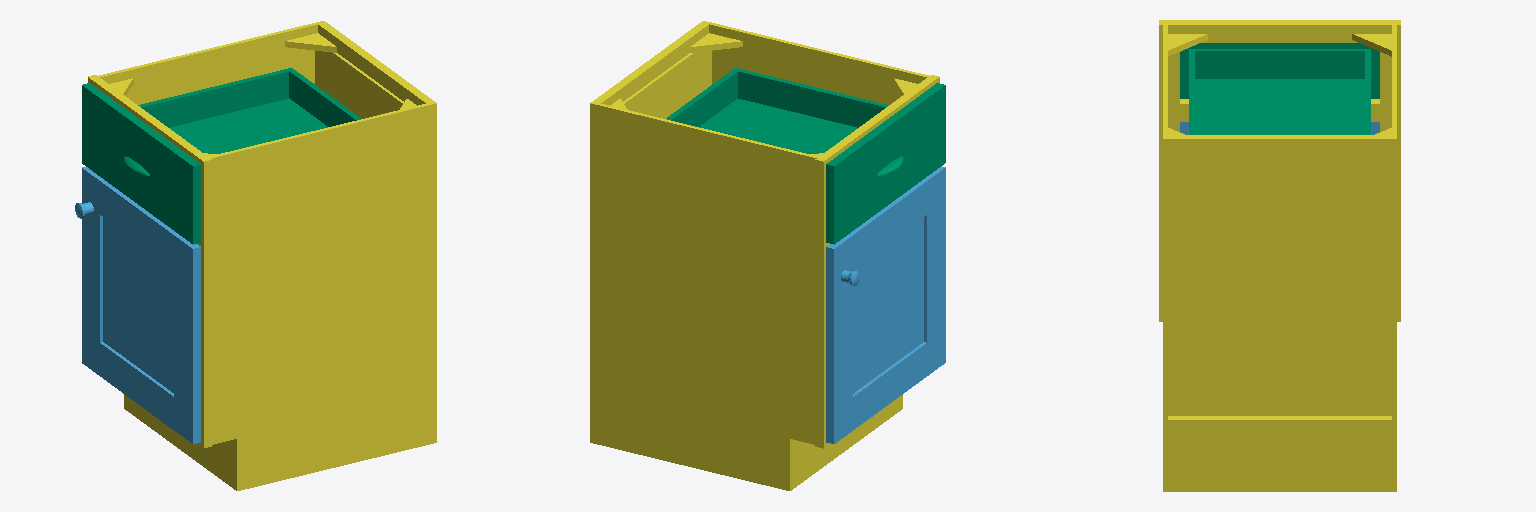
URDF robot description (partnet_31c94abeda52273286d53ab0fe94e911):
<?xml version="1.0" ?>
<robot name="partnet_31c94abeda52273286d53ab0fe94e911">
	<link name="base"/>
	<link name="link_0">
		<visual name="cabinet_door_surface-16">
			<origin xyz="-0.46504091367065414 -0.7074369788169861 -0.5566501791702767"/>
			<geometry>
				<mesh filename="textured_objs/original-39.obj"/>
			</geometry>
		</visual>
		<visual name="cabinet_door_surface-16">
			<origin xyz="-0.46504091367065414 -0.7074369788169861 -0.5566501791702767"/>
			<geometry>
				<mesh filename="textured_objs/original-41.obj"/>
			</geometry>
		</visual>
		<visual name="cabinet_door_surface-16">
			<origin xyz="-0.46504091367065414 -0.7074369788169861 -0.5566501791702767"/>
			<geometry>
				<mesh filename="textured_objs/original-42.obj"/>
			</geometry>
		</visual>
		<visual name="cabinet_door_surface-16">
			<origin xyz="-0.46504091367065414 -0.7074369788169861 -0.5566501791702767"/>
			<geometry>
				<mesh filename="textured_objs/original-40.obj"/>
			</geometry>
		</visual>
		<visual name="cabinet_door_surface-16">
			<origin xyz="-0.46504091367065414 -0.7074369788169861 -0.5566501791702767"/>
			<geometry>
				<mesh filename="textured_objs/original-38.obj"/>
			</geometry>
		</visual>
		<visual name="handle-17">
			<origin xyz="-0.46504091367065414 -0.7074369788169861 -0.5566501791702767"/>
			<geometry>
				<mesh filename="textured_objs/original-43.obj"/>
			</geometry>
		</visual>
		<collision>
			<origin xyz="-0.46504091367065414 -0.7074369788169861 -0.5566501791702767"/>
			<geometry>
				<mesh filename="textured_objs/original-39.obj"/>
			</geometry>
		</collision>
		<collision>
			<origin xyz="-0.46504091367065414 -0.7074369788169861 -0.5566501791702767"/>
			<geometry>
				<mesh filename="textured_objs/original-41.obj"/>
			</geometry>
		</collision>
		<collision>
			<origin xyz="-0.46504091367065414 -0.7074369788169861 -0.5566501791702767"/>
			<geometry>
				<mesh filename="textured_objs/original-42.obj"/>
			</geometry>
		</collision>
		<collision>
			<origin xyz="-0.46504091367065414 -0.7074369788169861 -0.5566501791702767"/>
			<geometry>
				<mesh filename="textured_objs/original-40.obj"/>
			</geometry>
		</collision>
		<collision>
			<origin xyz="-0.46504091367065414 -0.7074369788169861 -0.5566501791702767"/>
			<geometry>
				<mesh filename="textured_objs/original-38.obj"/>
			</geometry>
		</collision>
		<collision>
			<origin xyz="-0.46504091367065414 -0.7074369788169861 -0.5566501791702767"/>
			<geometry>
				<mesh filename="textured_objs/original-43.obj"/>
			</geometry>
		</collision>
	</link>
	<joint name="joint_0" type="revolute">
		<origin xyz="0.46504091367065414 0.7074369788169861 0.5566501791702767"/>
		<axis xyz="0 0.9999999999999999 0"/>
		<child link="link_0"/>
		<parent link="link_2"/>
		<limit lower="0.0" upper="1.7215927741672068"/>
	</joint>
	<link name="link_1">
		<visual name="drawer_side-9">
			<origin xyz="-0.038757788652000566 -0.5077704876318465 0.5317010283470152"/>
			<geometry>
				<mesh filename="textured_objs/original-26.obj"/>
			</geometry>
		</visual>
		<visual name="drawer_side-10">
			<origin xyz="-0.038757788652000566 -0.5077704876318465 0.5317010283470152"/>
			<geometry>
				<mesh filename="textured_objs/original-31.obj"/>
			</geometry>
		</visual>
		<visual name="drawer_back-11">
			<origin xyz="-0.038757788652000566 -0.5077704876318465 0.5317010283470152"/>
			<geometry>
				<mesh filename="textured_objs/original-32.obj"/>
			</geometry>
		</visual>
		<visual name="drawer_bottom-12">
			<origin xyz="-0.038757788652000566 -0.5077704876318465 0.5317010283470152"/>
			<geometry>
				<mesh filename="textured_objs/original-30.obj"/>
			</geometry>
		</visual>
		<visual name="drawer_bottom-12">
			<origin xyz="-0.038757788652000566 -0.5077704876318465 0.5317010283470152"/>
			<geometry>
				<mesh filename="textured_objs/original-29.obj"/>
			</geometry>
		</visual>
		<visual name="drawer_front-13">
			<origin xyz="-0.038757788652000566 -0.5077704876318465 0.5317010283470152"/>
			<geometry>
				<mesh filename="textured_objs/original-35.obj"/>
			</geometry>
		</visual>
		<visual name="drawer_front-13">
			<origin xyz="-0.038757788652000566 -0.5077704876318465 0.5317010283470152"/>
			<geometry>
				<mesh filename="textured_objs/original-27.obj"/>
			</geometry>
		</visual>
		<visual name="other_leaf-15">
			<origin xyz="-0.038757788652000566 -0.5077704876318465 0.5317010283470152"/>
			<geometry>
				<mesh filename="textured_objs/original-33.obj"/>
			</geometry>
		</visual>
		<visual name="handle-7">
			<origin xyz="-0.038757788652000566 -0.5077704876318465 0.5317010283470152"/>
			<geometry>
				<mesh filename="textured_objs/original-36.obj"/>
			</geometry>
		</visual>
		<collision>
			<origin xyz="-0.038757788652000566 -0.5077704876318465 0.5317010283470152"/>
			<geometry>
				<mesh filename="textured_objs/original-26.obj"/>
			</geometry>
		</collision>
		<collision>
			<origin xyz="-0.038757788652000566 -0.5077704876318465 0.5317010283470152"/>
			<geometry>
				<mesh filename="textured_objs/original-31.obj"/>
			</geometry>
		</collision>
		<collision>
			<origin xyz="-0.038757788652000566 -0.5077704876318465 0.5317010283470152"/>
			<geometry>
				<mesh filename="textured_objs/original-32.obj"/>
			</geometry>
		</collision>
		<collision>
			<origin xyz="-0.038757788652000566 -0.5077704876318465 0.5317010283470152"/>
			<geometry>
				<mesh filename="textured_objs/original-30.obj"/>
			</geometry>
		</collision>
		<collision>
			<origin xyz="-0.038757788652000566 -0.5077704876318465 0.5317010283470152"/>
			<geometry>
				<mesh filename="textured_objs/original-29.obj"/>
			</geometry>
		</collision>
		<collision>
			<origin xyz="-0.038757788652000566 -0.5077704876318465 0.5317010283470152"/>
			<geometry>
				<mesh filename="textured_objs/original-35.obj"/>
			</geometry>
		</collision>
		<collision>
			<origin xyz="-0.038757788652000566 -0.5077704876318465 0.5317010283470152"/>
			<geometry>
				<mesh filename="textured_objs/original-27.obj"/>
			</geometry>
		</collision>
		<collision>
			<origin xyz="-0.038757788652000566 -0.5077704876318465 0.5317010283470152"/>
			<geometry>
				<mesh filename="textured_objs/original-33.obj"/>
			</geometry>
		</collision>
		<collision>
			<origin xyz="-0.038757788652000566 -0.5077704876318465 0.5317010283470152"/>
			<geometry>
				<mesh filename="textured_objs/original-36.obj"/>
			</geometry>
		</collision>
	</link>
	<joint name="joint_1" type="prismatic">
		<origin xyz="0.038757788652000566 0.5077704876318465 -0.5317010283470152"/>
		<axis xyz="0 0 1"/>
		<child link="link_1"/>
		<parent link="link_2"/>
		<limit lower="0" upper="0.7959999999999998"/>
	</joint>
	<link name="link_2">
		<visual name="frame_vertical_bar-28">
			<origin xyz="0 0 0"/>
			<geometry>
				<mesh filename="textured_objs/original-3.obj"/>
			</geometry>
		</visual>
		<visual name="frame_vertical_bar-29">
			<origin xyz="0 0 0"/>
			<geometry>
				<mesh filename="textured_objs/original-7.obj"/>
			</geometry>
		</visual>
		<visual name="frame_horizontal_bar-30">
			<origin xyz="0 0 0"/>
			<geometry>
				<mesh filename="textured_objs/original-8.obj"/>
			</geometry>
		</visual>
		<visual name="frame_horizontal_bar-31">
			<origin xyz="0 0 0"/>
			<geometry>
				<mesh filename="textured_objs/original-17.obj"/>
			</geometry>
		</visual>
		<visual name="frame_horizontal_bar-32">
			<origin xyz="0 0 0"/>
			<geometry>
				<mesh filename="textured_objs/original-6.obj"/>
			</geometry>
		</visual>
		<visual name="other_leaf-34">
			<origin xyz="0 0 0"/>
			<geometry>
				<mesh filename="textured_objs/original-21.obj"/>
			</geometry>
		</visual>
		<visual name="other_leaf-35">
			<origin xyz="0 0 0"/>
			<geometry>
				<mesh filename="textured_objs/original-22.obj"/>
			</geometry>
		</visual>
		<visual name="other_leaf-36">
			<origin xyz="0 0 0"/>
			<geometry>
				<mesh filename="textured_objs/original-23.obj"/>
			</geometry>
		</visual>
		<visual name="other_leaf-37">
			<origin xyz="0 0 0"/>
			<geometry>
				<mesh filename="textured_objs/original-20.obj"/>
			</geometry>
		</visual>
		<visual name="vertical_side_panel-38">
			<origin xyz="0 0 0"/>
			<geometry>
				<mesh filename="textured_objs/original-11.obj"/>
			</geometry>
		</visual>
		<visual name="vertical_side_panel-38">
			<origin xyz="0 0 0"/>
			<geometry>
				<mesh filename="textured_objs/original-10.obj"/>
			</geometry>
		</visual>
		<visual name="vertical_side_panel-39">
			<origin xyz="0 0 0"/>
			<geometry>
				<mesh filename="textured_objs/original-15.obj"/>
			</geometry>
		</visual>
		<visual name="vertical_side_panel-39">
			<origin xyz="0 0 0"/>
			<geometry>
				<mesh filename="textured_objs/original-14.obj"/>
			</geometry>
		</visual>
		<visual name="back_panel-40">
			<origin xyz="0 0 0"/>
			<geometry>
				<mesh filename="textured_objs/original-5.obj"/>
			</geometry>
		</visual>
		<visual name="bottom_panel-41">
			<origin xyz="0 0 0"/>
			<geometry>
				<mesh filename="textured_objs/original-2.obj"/>
			</geometry>
		</visual>
		<visual name="frame_horizontal_bar-42">
			<origin xyz="0 0 0"/>
			<geometry>
				<mesh filename="textured_objs/original-4.obj"/>
			</geometry>
		</visual>
		<visual name="other_leaf-44">
			<origin xyz="0 0 0"/>
			<geometry>
				<mesh filename="textured_objs/original-44.obj"/>
			</geometry>
		</visual>
		<visual name="base_side_panel-19">
			<origin xyz="0 0 0"/>
			<geometry>
				<mesh filename="textured_objs/original-16.obj"/>
			</geometry>
		</visual>
		<visual name="base_side_panel-20">
			<origin xyz="0 0 0"/>
			<geometry>
				<mesh filename="textured_objs/original-18.obj"/>
			</geometry>
		</visual>
		<visual name="base_side_panel-21">
			<origin xyz="0 0 0"/>
			<geometry>
				<mesh filename="textured_objs/original-12.obj"/>
			</geometry>
		</visual>
		<visual name="base_side_panel-22">
			<origin xyz="0 0 0"/>
			<geometry>
				<mesh filename="textured_objs/original-19.obj"/>
			</geometry>
		</visual>
		<collision>
			<origin xyz="0 0 0"/>
			<geometry>
				<mesh filename="textured_objs/original-3.obj"/>
			</geometry>
		</collision>
		<collision>
			<origin xyz="0 0 0"/>
			<geometry>
				<mesh filename="textured_objs/original-7.obj"/>
			</geometry>
		</collision>
		<collision>
			<origin xyz="0 0 0"/>
			<geometry>
				<mesh filename="textured_objs/original-8.obj"/>
			</geometry>
		</collision>
		<collision>
			<origin xyz="0 0 0"/>
			<geometry>
				<mesh filename="textured_objs/original-17.obj"/>
			</geometry>
		</collision>
		<collision>
			<origin xyz="0 0 0"/>
			<geometry>
				<mesh filename="textured_objs/original-6.obj"/>
			</geometry>
		</collision>
		<collision>
			<origin xyz="0 0 0"/>
			<geometry>
				<mesh filename="textured_objs/original-21.obj"/>
			</geometry>
		</collision>
		<collision>
			<origin xyz="0 0 0"/>
			<geometry>
				<mesh filename="textured_objs/original-22.obj"/>
			</geometry>
		</collision>
		<collision>
			<origin xyz="0 0 0"/>
			<geometry>
				<mesh filename="textured_objs/original-23.obj"/>
			</geometry>
		</collision>
		<collision>
			<origin xyz="0 0 0"/>
			<geometry>
				<mesh filename="textured_objs/original-20.obj"/>
			</geometry>
		</collision>
		<collision>
			<origin xyz="0 0 0"/>
			<geometry>
				<mesh filename="textured_objs/original-11.obj"/>
			</geometry>
		</collision>
		<collision>
			<origin xyz="0 0 0"/>
			<geometry>
				<mesh filename="textured_objs/original-10.obj"/>
			</geometry>
		</collision>
		<collision>
			<origin xyz="0 0 0"/>
			<geometry>
				<mesh filename="textured_objs/original-15.obj"/>
			</geometry>
		</collision>
		<collision>
			<origin xyz="0 0 0"/>
			<geometry>
				<mesh filename="textured_objs/original-14.obj"/>
			</geometry>
		</collision>
		<collision>
			<origin xyz="0 0 0"/>
			<geometry>
				<mesh filename="textured_objs/original-5.obj"/>
			</geometry>
		</collision>
		<collision>
			<origin xyz="0 0 0"/>
			<geometry>
				<mesh filename="textured_objs/original-2.obj"/>
			</geometry>
		</collision>
		<collision>
			<origin xyz="0 0 0"/>
			<geometry>
				<mesh filename="textured_objs/original-4.obj"/>
			</geometry>
		</collision>
		<collision>
			<origin xyz="0 0 0"/>
			<geometry>
				<mesh filename="textured_objs/original-44.obj"/>
			</geometry>
		</collision>
		<collision>
			<origin xyz="0 0 0"/>
			<geometry>
				<mesh filename="textured_objs/original-16.obj"/>
			</geometry>
		</collision>
		<collision>
			<origin xyz="0 0 0"/>
			<geometry>
				<mesh filename="textured_objs/original-18.obj"/>
			</geometry>
		</collision>
		<collision>
			<origin xyz="0 0 0"/>
			<geometry>
				<mesh filename="textured_objs/original-12.obj"/>
			</geometry>
		</collision>
		<collision>
			<origin xyz="0 0 0"/>
			<geometry>
				<mesh filename="textured_objs/original-19.obj"/>
			</geometry>
		</collision>
	</link>
	<joint name="joint_2" type="fixed">
		<origin rpy="1.570796326794897 0 -1.570796326794897" xyz="0 0 0"/>
		<child link="link_2"/>
		<parent link="base"/>
	</joint>
</robot>

--- What the picture shows (computed from the rendered views, not written in the file) ---
Views: 3 orthographic renders of the robot side by side, from view 1: azimuth 30°, elevation 25°; view 2: azimuth 150°, elevation 25°; view 3: azimuth 270°, elevation 25°.
Robot: partnet_31c94abeda52273286d53ab0fe94e911 — 4 links, 3 joints (1 revolute, 1 prismatic, 1 fixed); root link base; default pose: every joint at zero.
Links seen in each view (by area): view 1: link_2, link_0, link_1; view 2: link_2, link_0, link_1; view 3: link_2, link_1.
Link boxes in pixels (<box>): link_2: <box>88,21,436,490</box>; link_0: <box>75,167,200,443</box>; link_1: <box>82,68,360,244</box>; link_2: <box>590,21,939,490</box>; link_0: <box>826,166,945,443</box>; link_1: <box>666,68,945,244</box>; link_2: <box>1159,20,1400,491</box>; link_1: <box>1180,43,1379,134</box>.
Bounding box of the posed robot: 1.23 × 0.9617 × 1.55 m (x, y, z).
Meshes: 36 distinct files referenced, 36 mesh visuals loaded (36 OBJ).
